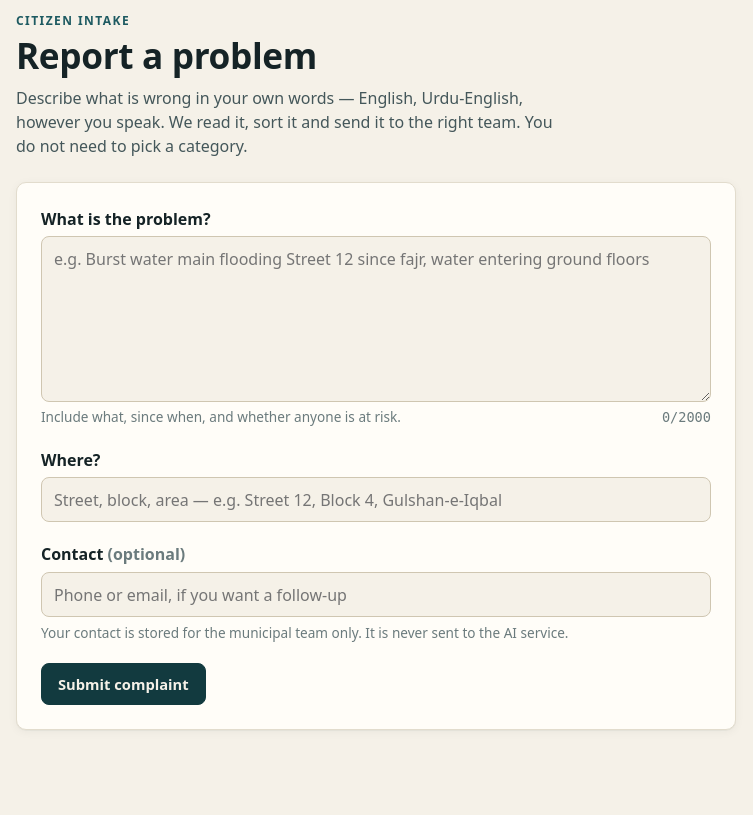
Scenario: SubmitPage › surfaces the server's 429 message with its retry time
In the text box labelled "What is the problem?": (376, 319) [41,236,711,402], type "Burst water main flooding Street 12"
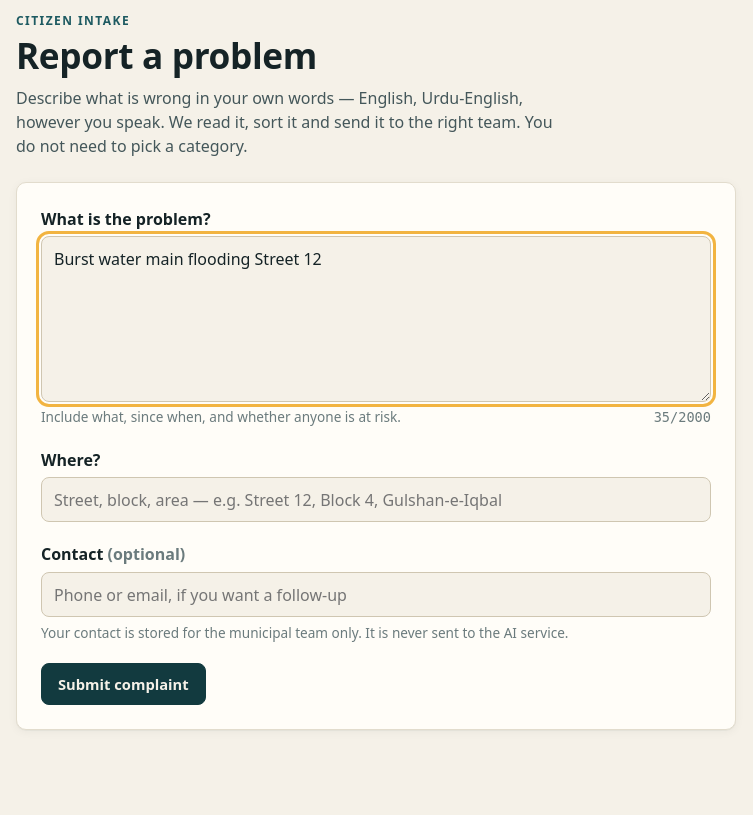
In the field labelled "Where?": (376, 500) [41,477,711,522], type "Street 12, Gulshan"
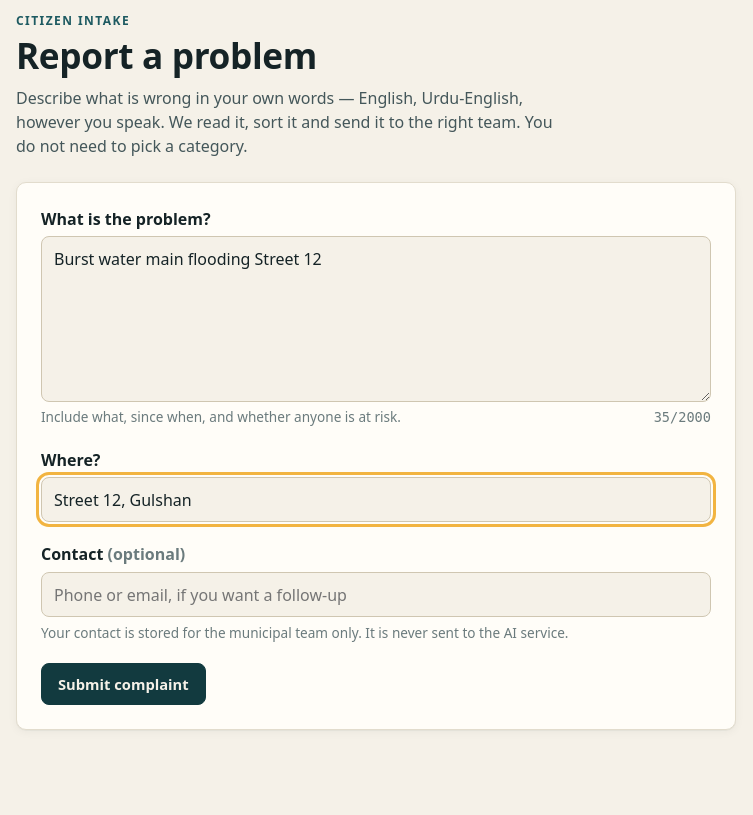
Click the button "Submit complaint": (123, 684) [41,663,206,705]
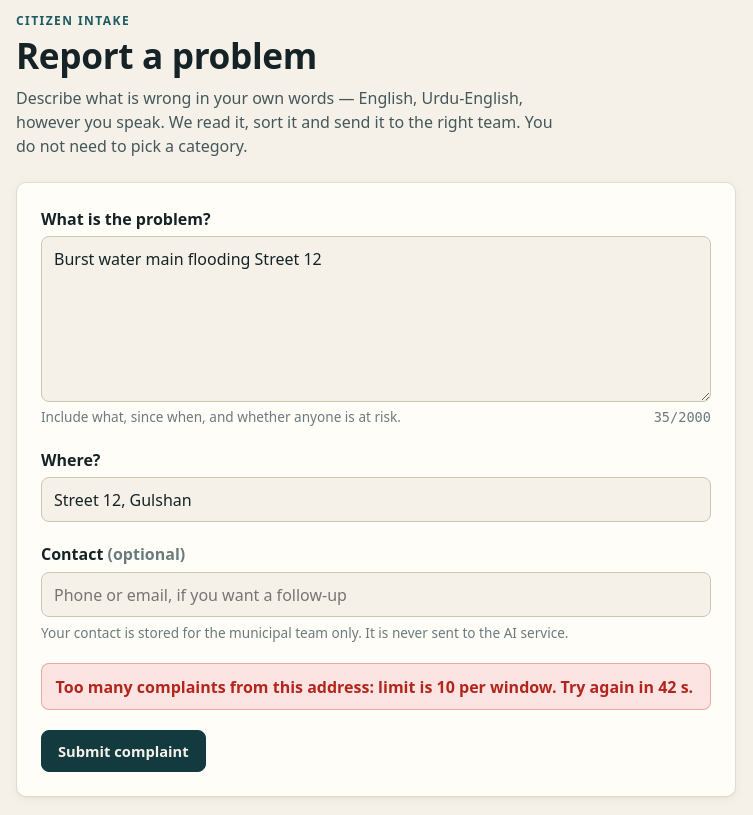
Expected: the button "Submit complaint" is enabled, [41,730,206,772]
Now the message shows "Try again in 42 s.", box [56,676,693,698]
